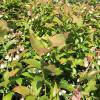Blueberry leaf: (27, 33, 46, 56), (47, 30, 72, 47), (22, 57, 44, 72), (10, 85, 35, 96), (50, 78, 59, 100), (43, 63, 60, 74), (86, 69, 100, 77)
